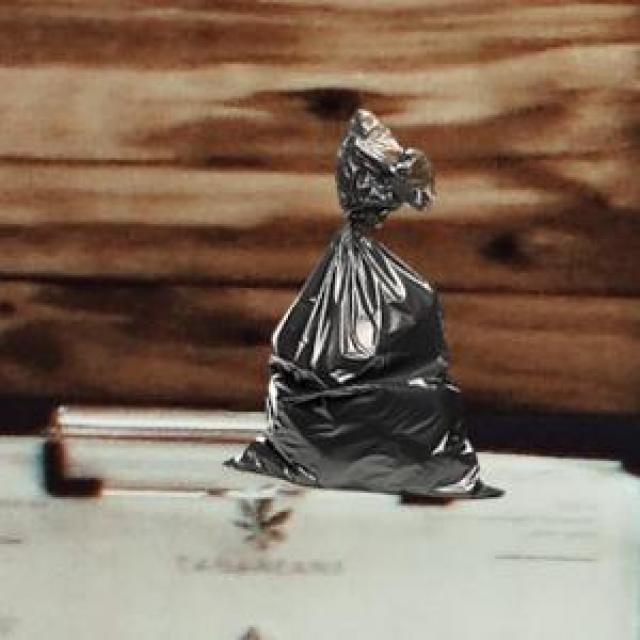waste: (228, 110, 501, 499)
